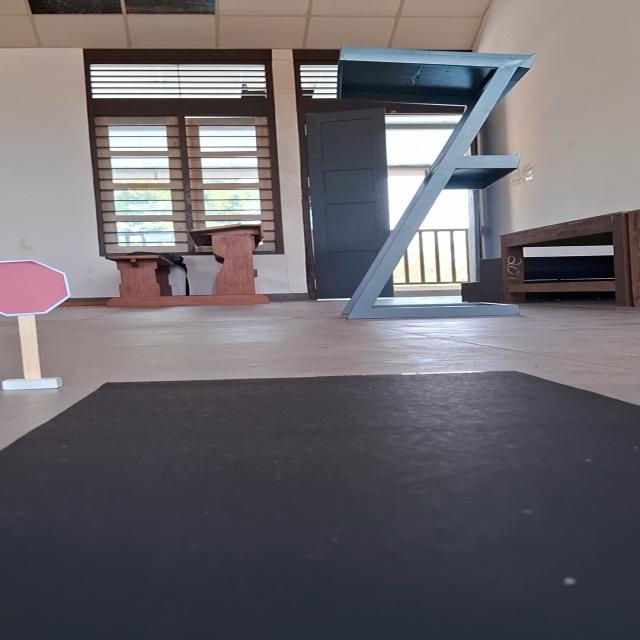Stop: (0, 257, 74, 317)
